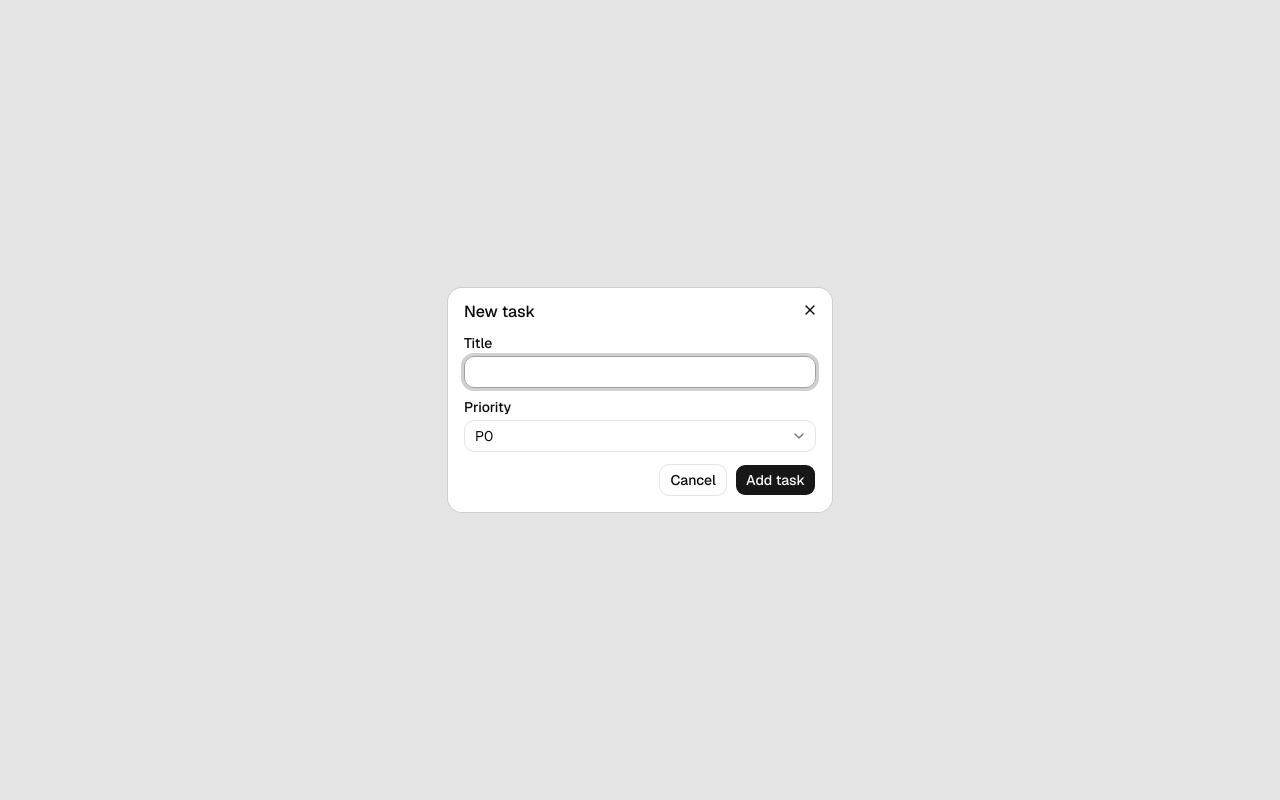
Test: AddTaskDialog › submits the form and shows the action's validation error
The width and height of the screenshot is (1280, 800).
Click the button "Add task" at (776, 480), box x1=735 y1=464 x2=816 y2=496
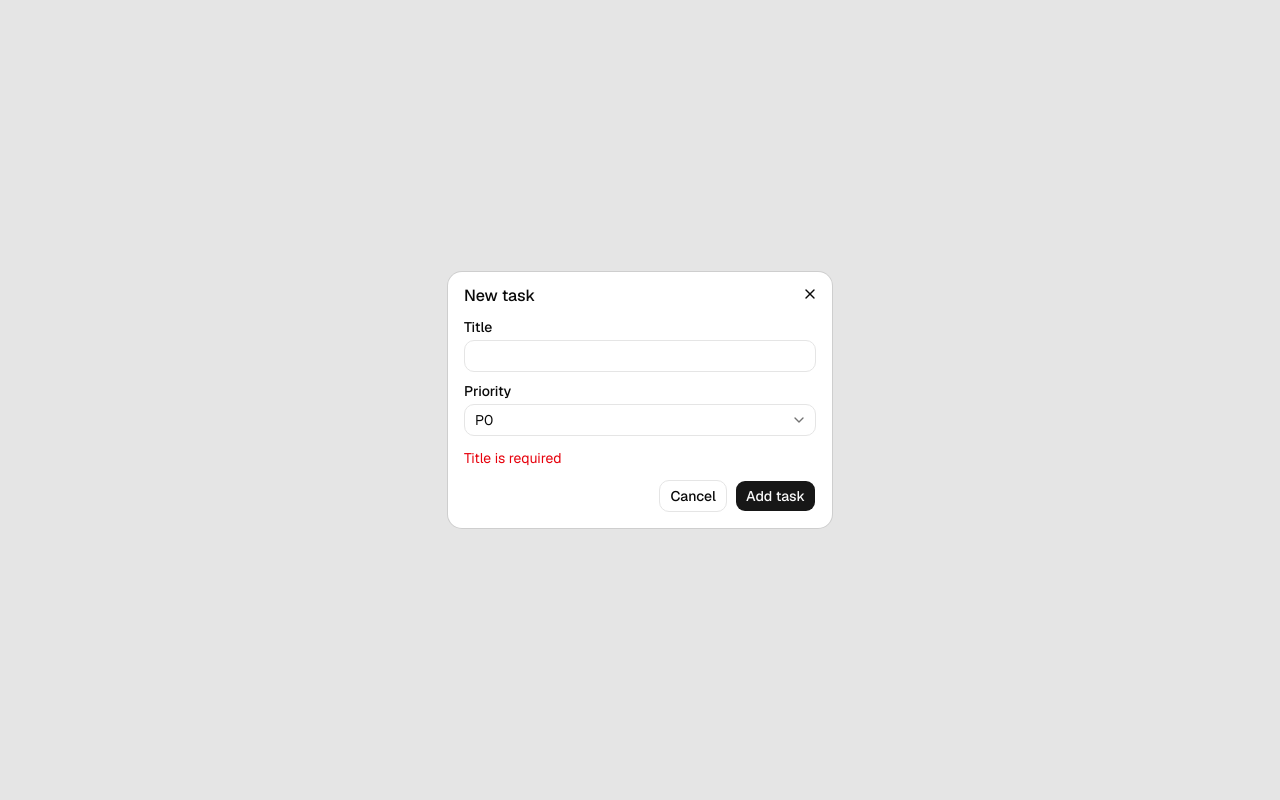
Result: the message reads "Title is required" at x1=464 y1=449 x2=562 y2=467
